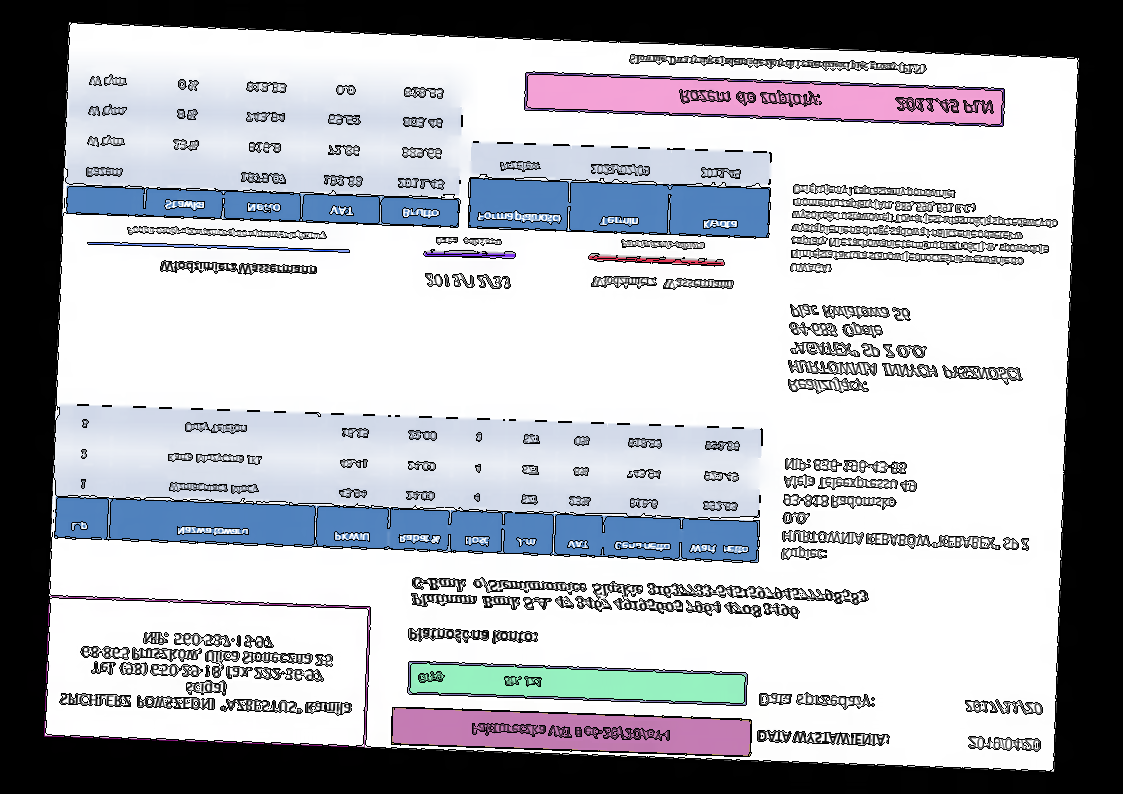Table: (52, 402, 765, 565), (64, 61, 466, 230), (466, 140, 775, 240)
TextBox: (779, 453, 1034, 571), (788, 182, 1064, 284), (57, 625, 358, 718), (783, 298, 1027, 405), (408, 570, 873, 626), (675, 83, 997, 119), (626, 50, 929, 78), (466, 719, 672, 746), (124, 222, 329, 246), (156, 256, 321, 283), (756, 725, 893, 753), (407, 622, 540, 649), (586, 273, 737, 296), (416, 669, 545, 692), (757, 688, 878, 712), (421, 270, 513, 294), (961, 696, 1044, 719), (966, 734, 1044, 756), (430, 233, 505, 252), (618, 237, 707, 253)
